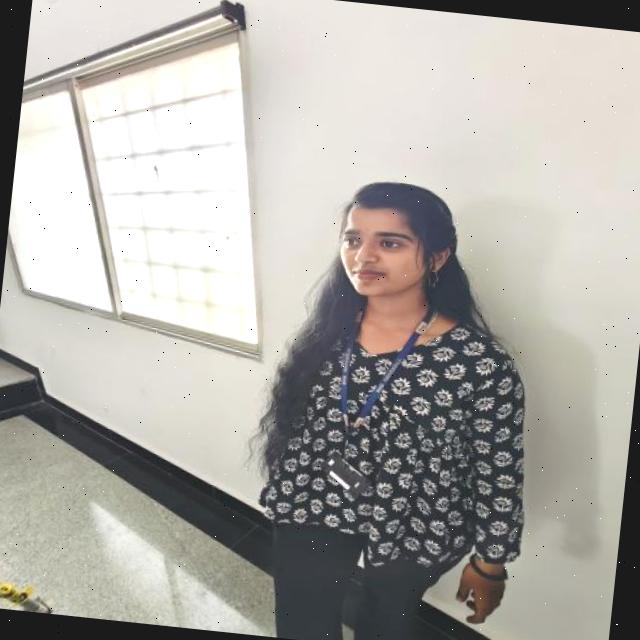Card: (323, 453, 369, 497)
Id strap: (352, 307, 434, 427)
